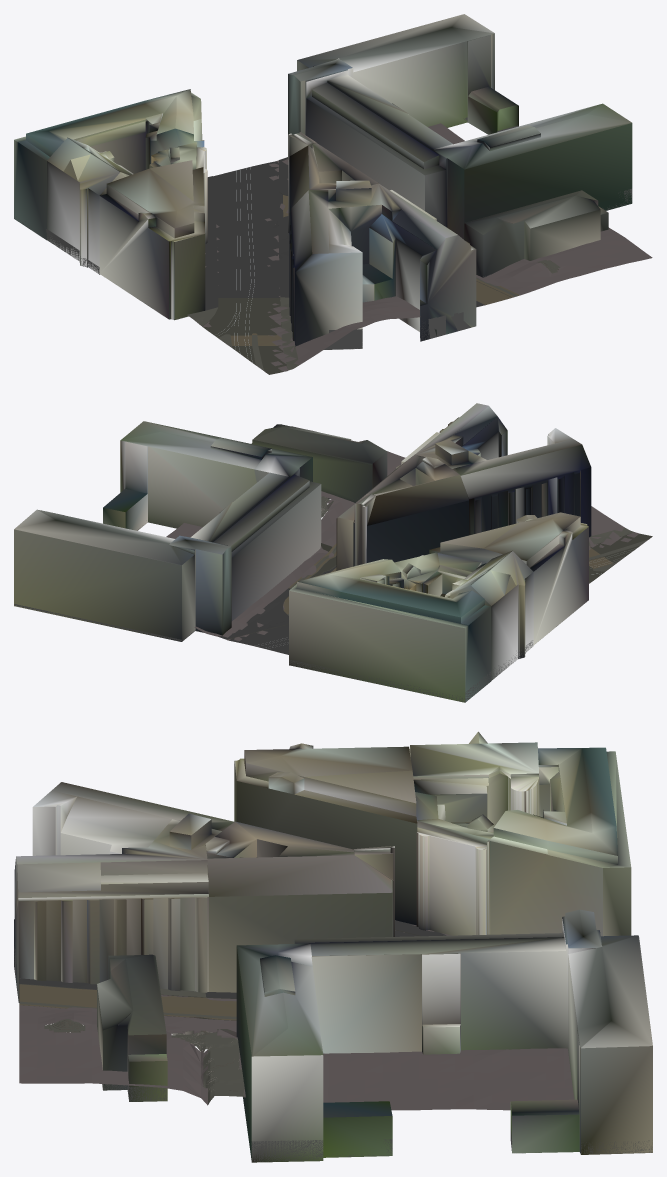
3 renders of one model, top to bottom at view 1: azimuth 30°, elevation 25°; view 2: azimuth 150°, elevation 25°; view 3: azimuth 270°, elevation 25°, orthographic. The views are drawn at different scales.
Parts seen in each view (by area): view 1: c_m02_m03; view 2: c_m02_m03; view 3: c_m02_m03.
Boxes of the visible parts, x1,y1,x2,y2 form: c_m02_m03: (14,14,652,374); c_m02_m03: (14,403,652,702); c_m02_m03: (14,731,652,1162).
Bounding box in the file's own units: 160 × 38.04 × 141.
